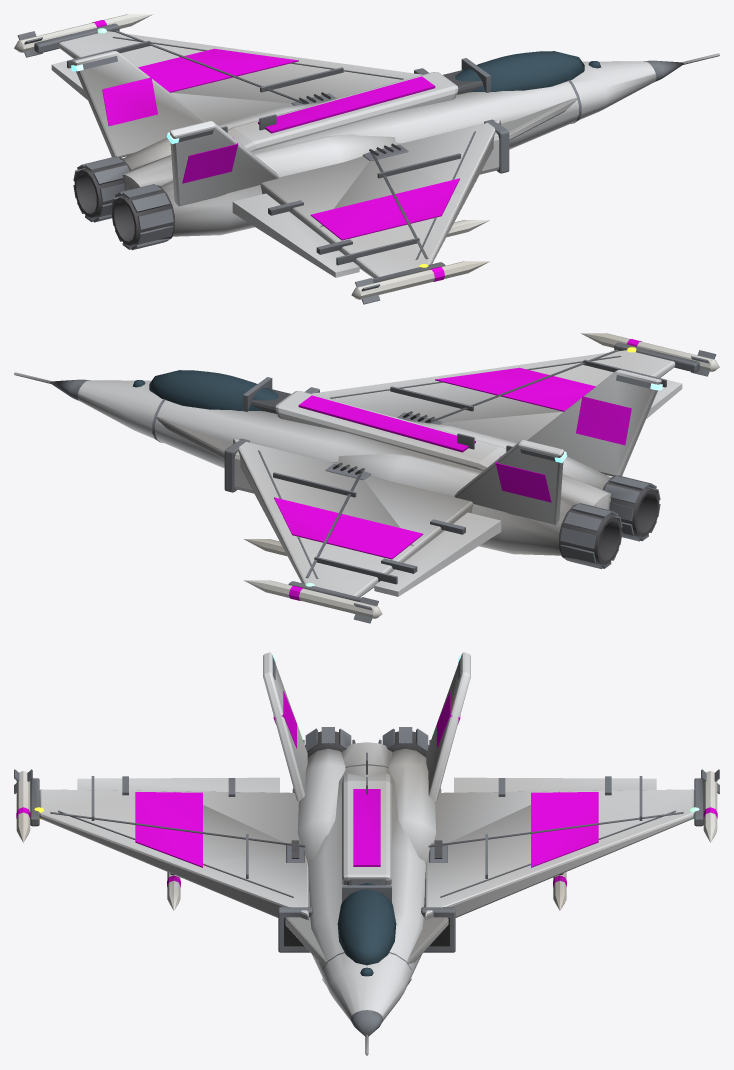
The model's file is interceptor.glb.
3 renders of one model, top to bottom at view 1: azimuth 30°, elevation 25°; view 2: azimuth 150°, elevation 25°; view 3: azimuth 270°, elevation 25°, orthographic.
Parts seen in each view (by area): view 1: Body; view 2: Body; view 3: Body.
Part boxes in pixels (x1,y1,x2,y2): Body: [14, 14, 719, 304]; Body: [14, 333, 719, 623]; Body: [14, 652, 719, 1055].
Size of the model in its own units: 3.74 by 0.8358 by 3.66.
Materials: 1 (1 with a texture image).
